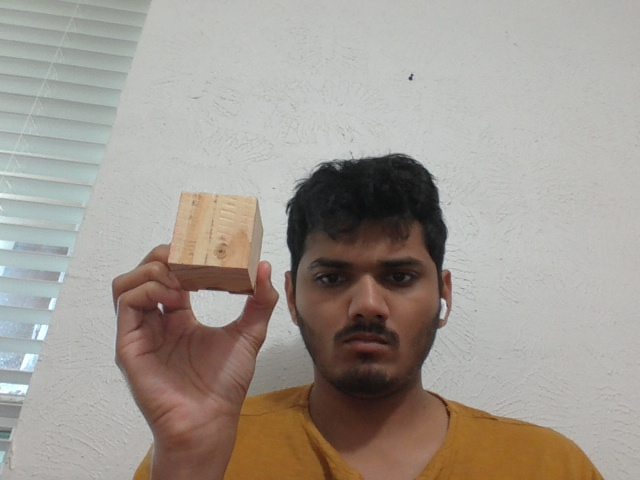NormalBlock: (168, 191, 261, 293)
